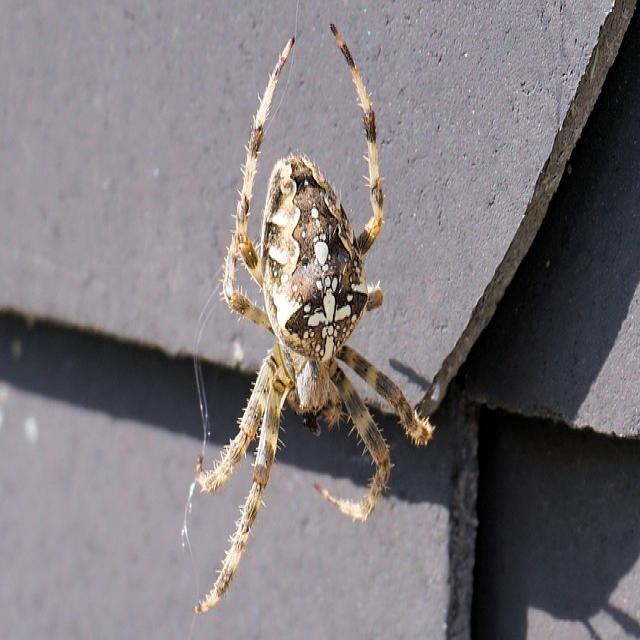spyder: (196, 26, 432, 612)
